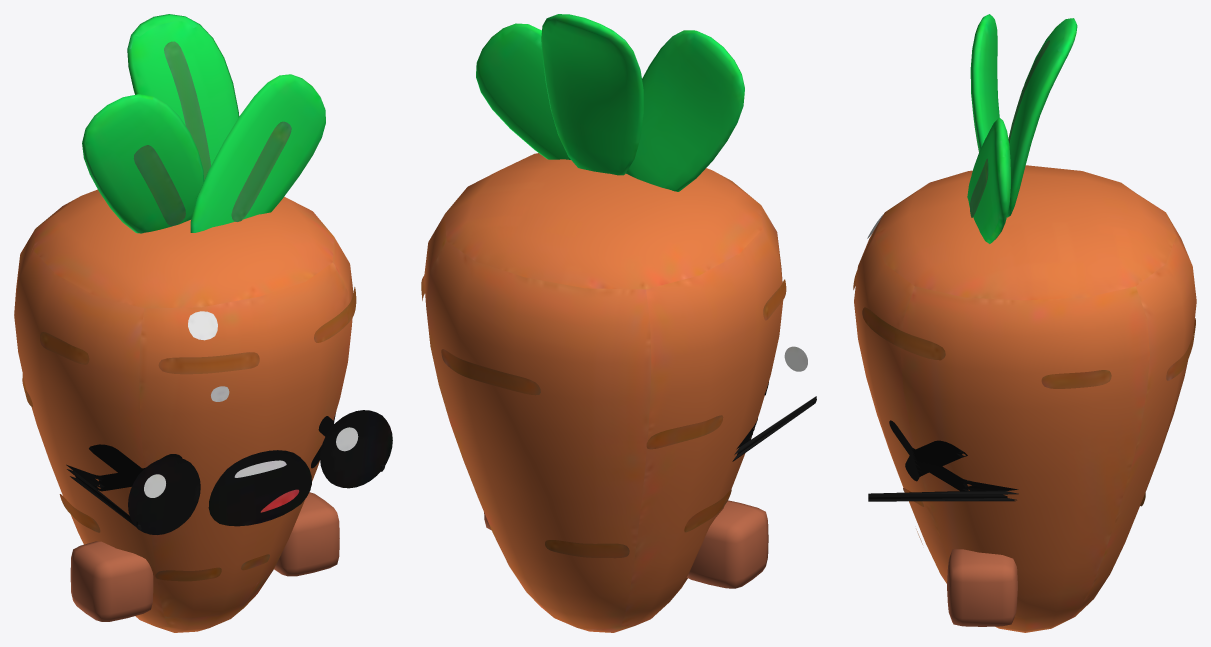
File: carrot.glb
The picture shows the model from 3 angles, left to right: view 1: azimuth 30°, elevation 25°; view 2: azimuth 150°, elevation 25°; view 3: azimuth 270°, elevation 25°; orthographic projection. The views are drawn at different scales.
Parts seen in each view (by area): view 1: body, face_eyes, face_mouth, hand_L, hand_R, face_dead_eyes; view 2: body, hand_L, face_dead_eyes; view 3: body, hand_R, face_dead_eyes.
Part boxes in pixels (box(x1,y1,x2,y2)): body: box(14, 14, 356, 632); face_eyes: box(128, 410, 392, 534); face_mouth: box(208, 450, 311, 526); hand_L: box(70, 541, 153, 621); hand_R: box(274, 492, 339, 576); face_dead_eyes: box(66, 413, 385, 530); body: box(421, 14, 786, 632); hand_L: box(686, 500, 768, 588); face_dead_eyes: box(732, 382, 816, 461); body: box(853, 14, 1196, 632); hand_R: box(947, 549, 1017, 626); face_dead_eyes: box(868, 420, 1018, 501).
Bounding box in the file's own units: 0.5198 × 1 × 0.5182.
Materials: 3 (1 with a texture image).
